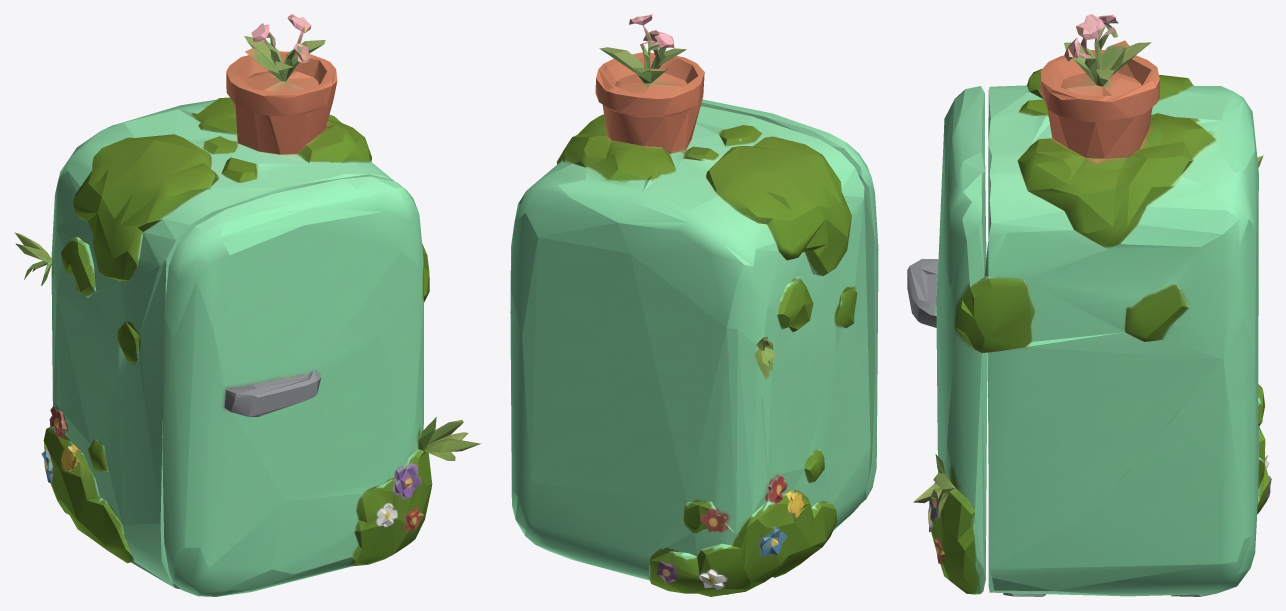
Rendered from meshy.glb.
3 renders of one model, left to right at view 1: azimuth 30°, elevation 25°; view 2: azimuth 150°, elevation 25°; view 3: azimuth 270°, elevation 25°, orthographic. The views are drawn at different scales.
Bounding box in the file's own units: 1.19 × 1.9 × 1.11.
1 material, 1 textured.
